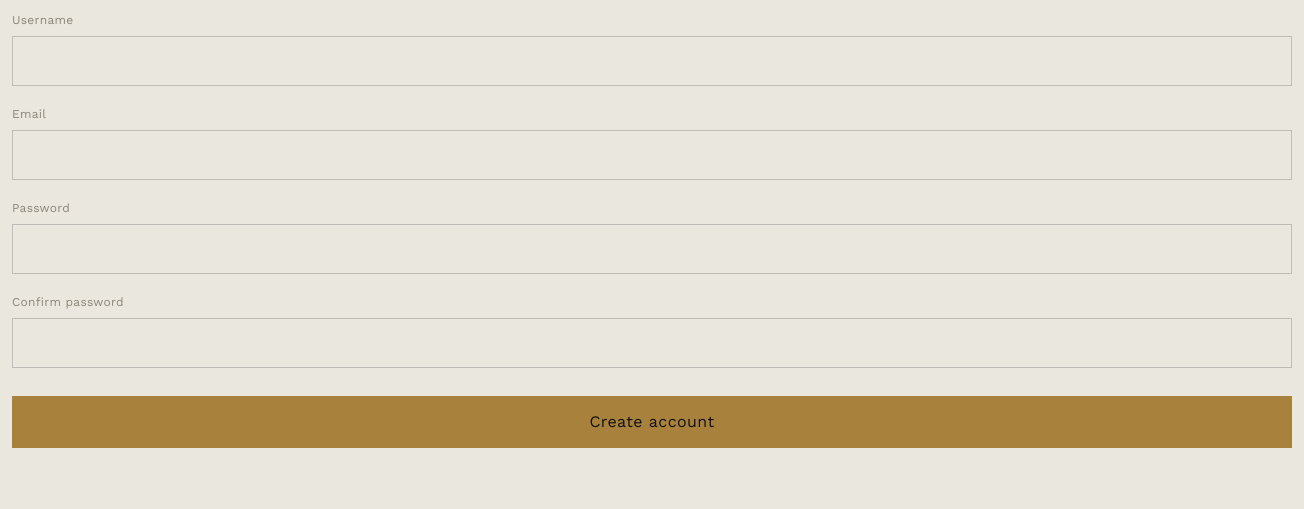
RegisterForm › blocks submission when the passwords don't match
The width and height of the screenshot is (1304, 509).
Type "jane" into the field labelled "Username" at (652, 61), box [12, 36, 1292, 86]
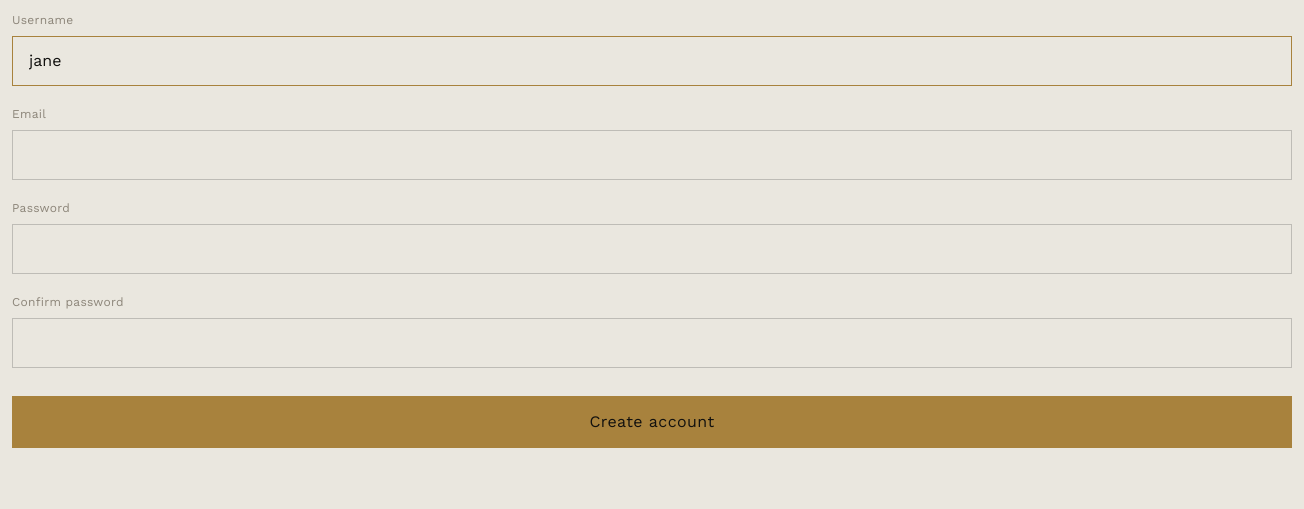
Type "jane@example.com" into the field labelled "Email" at (652, 155), box [12, 130, 1292, 180]
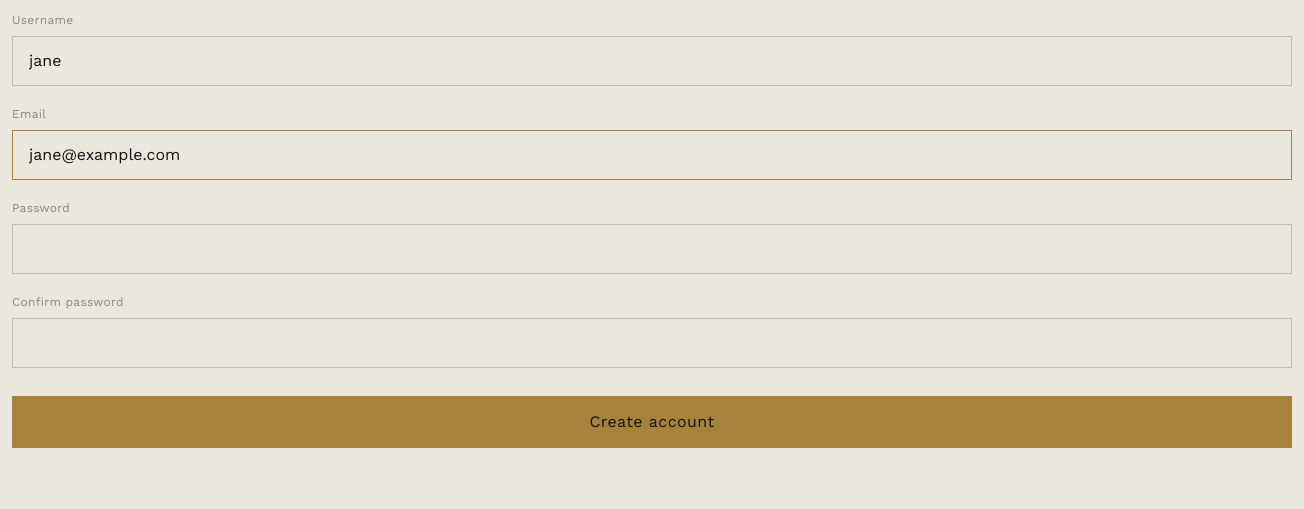
Type "hunter2!!" into the password field labelled "Password" at (652, 249), box [12, 224, 1292, 274]
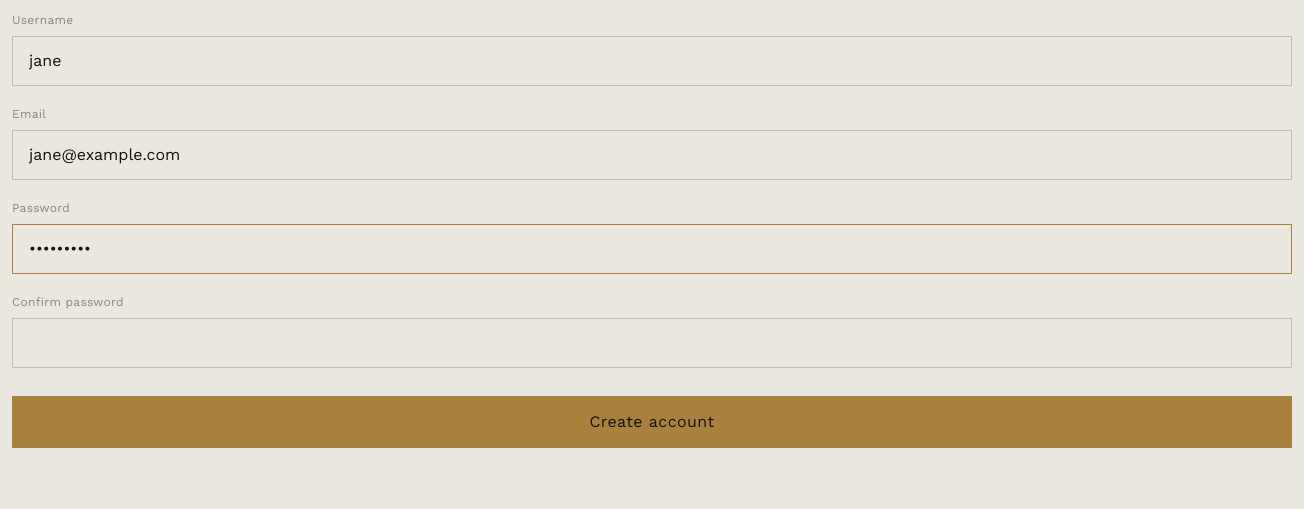
Type "different" into the password field labelled "Confirm password" at (652, 343), box [12, 318, 1292, 368]
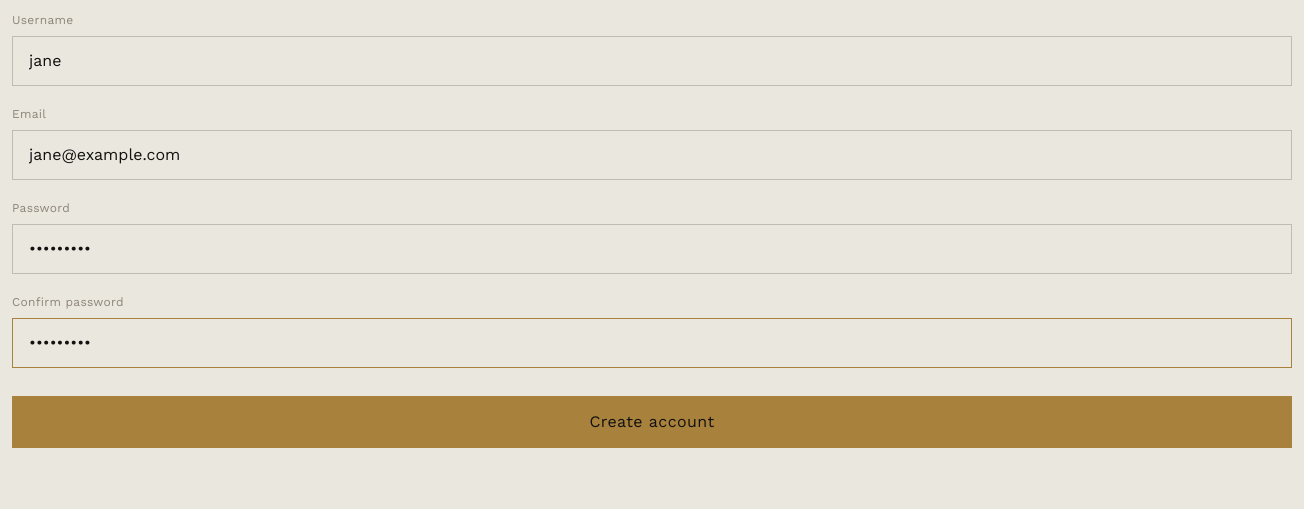
Click the button "Create account" at (652, 422), box [12, 396, 1292, 448]
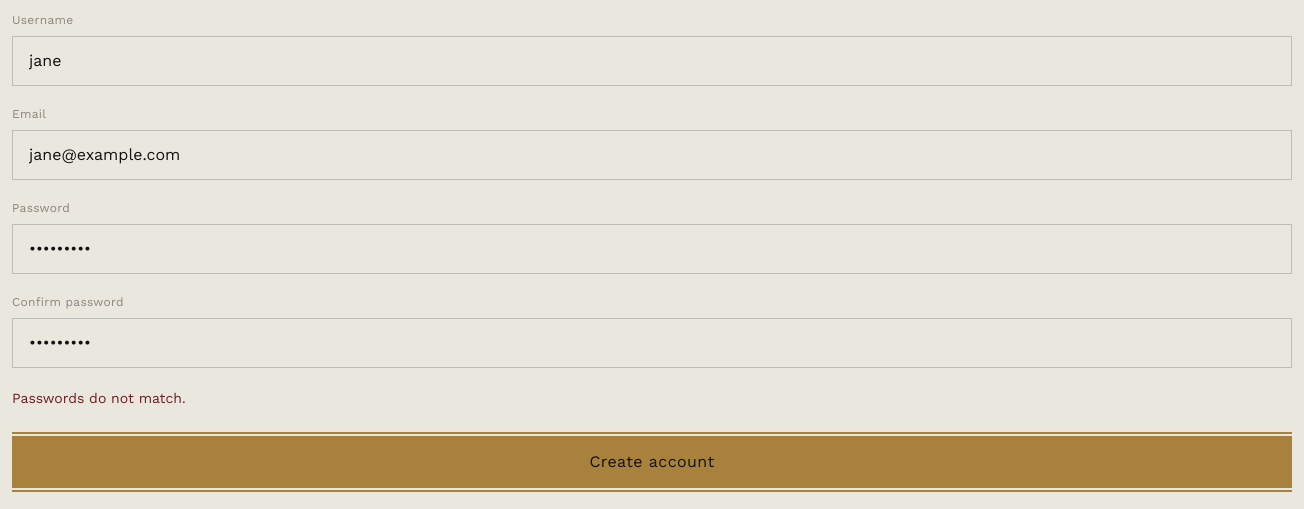
Now the text "Passwords do not match." is shown, box [12, 390, 186, 406]
